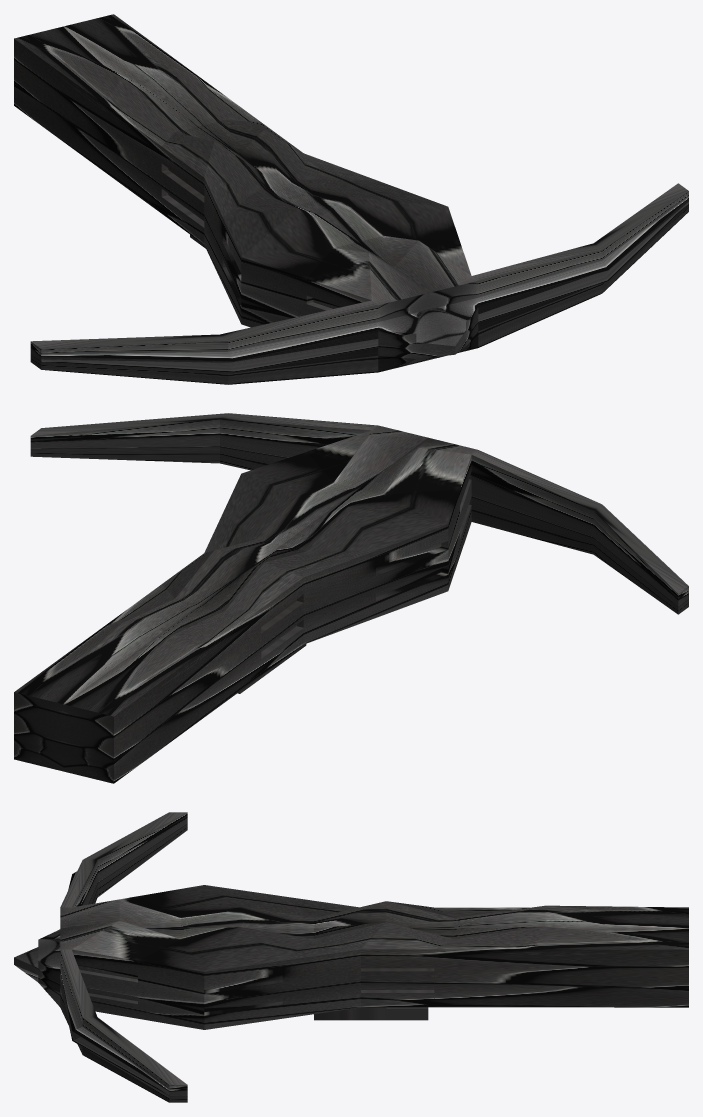
File: Ballesta Oscuridad2 1.fbx
3 views of the same model, one above another, from view 1: azimuth 30°, elevation 25°; view 2: azimuth 150°, elevation 25°; view 3: azimuth 270°, elevation 25° (orthographic). The views are drawn at different scales.
Parts seen in each view (by area): view 1: Cubo; view 2: Cubo; view 3: Cubo.
Part boxes in pixels (bbox=[...]): Cubo: bbox=[14, 14, 688, 384]; Cubo: bbox=[14, 413, 688, 783]; Cubo: bbox=[14, 812, 688, 1102].
Size of the model in its own units: 1297 by 221 by 1357.
1 material, 1 textured.
